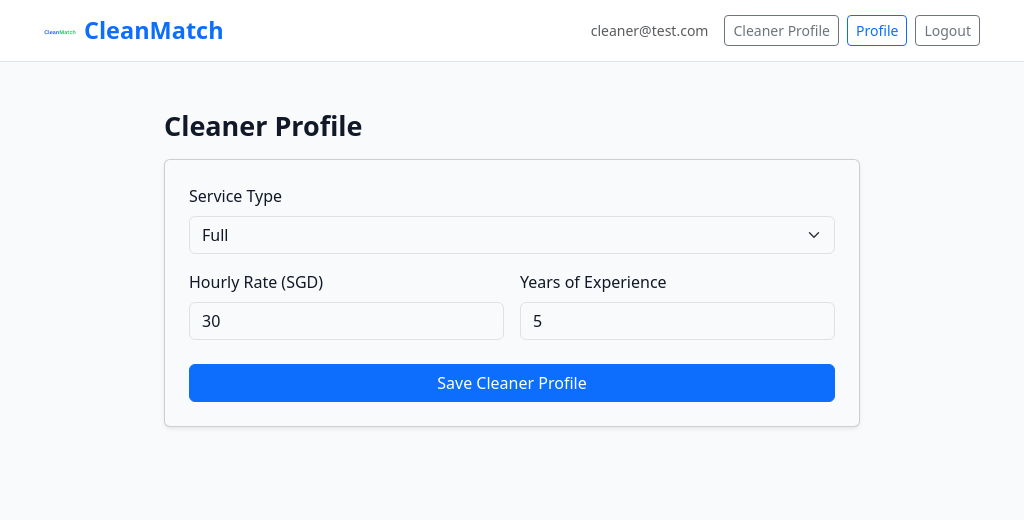
Test case: CleanerProfilePage › shows error when update fails
This screenshot has width=1024, height=520.
Step 1. Click the button "Save Cleaner Profile" → (512, 382), box [189,364,835,402]
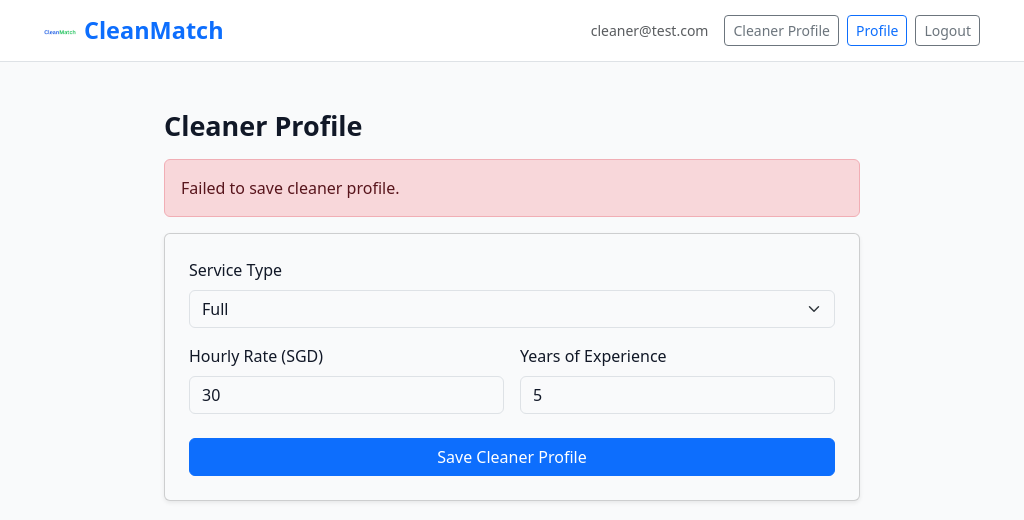
Now the text "Failed to save cleaner profile." is shown, box [164,158,860,216]
